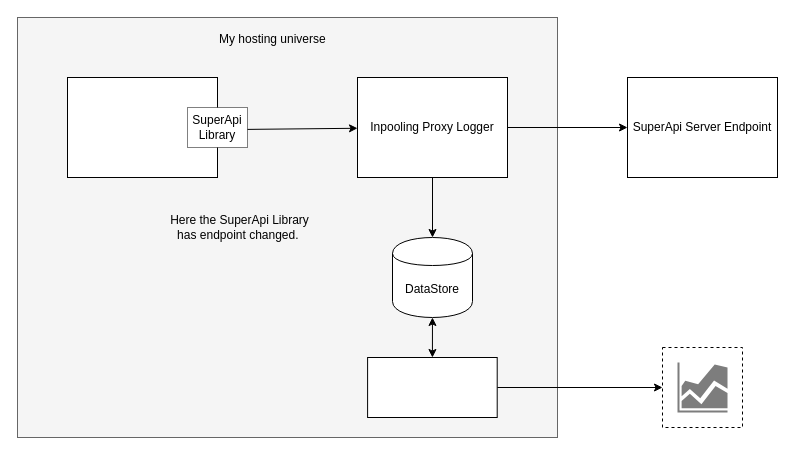
Some shapes in this 795 by 455 pixel diagram are drawn without their labels. Here are the shapes that lost their labels. From the top down, the box of each, then its label:
(66, 76, 218, 178): Worker/Server Using SuperApi
(367, 356, 497, 418): Visualization Tool
